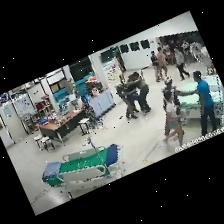person: (194, 71, 217, 135), (162, 76, 197, 114), (163, 90, 184, 145), (115, 84, 136, 120), (134, 72, 151, 115), (174, 48, 190, 81), (128, 91, 144, 112), (157, 47, 167, 78), (151, 51, 161, 82), (163, 42, 174, 64), (182, 40, 192, 64)
